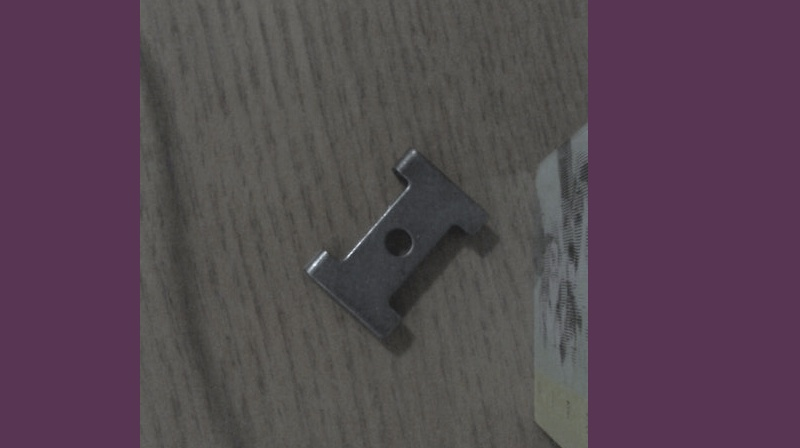O002: (301, 144, 497, 346)
